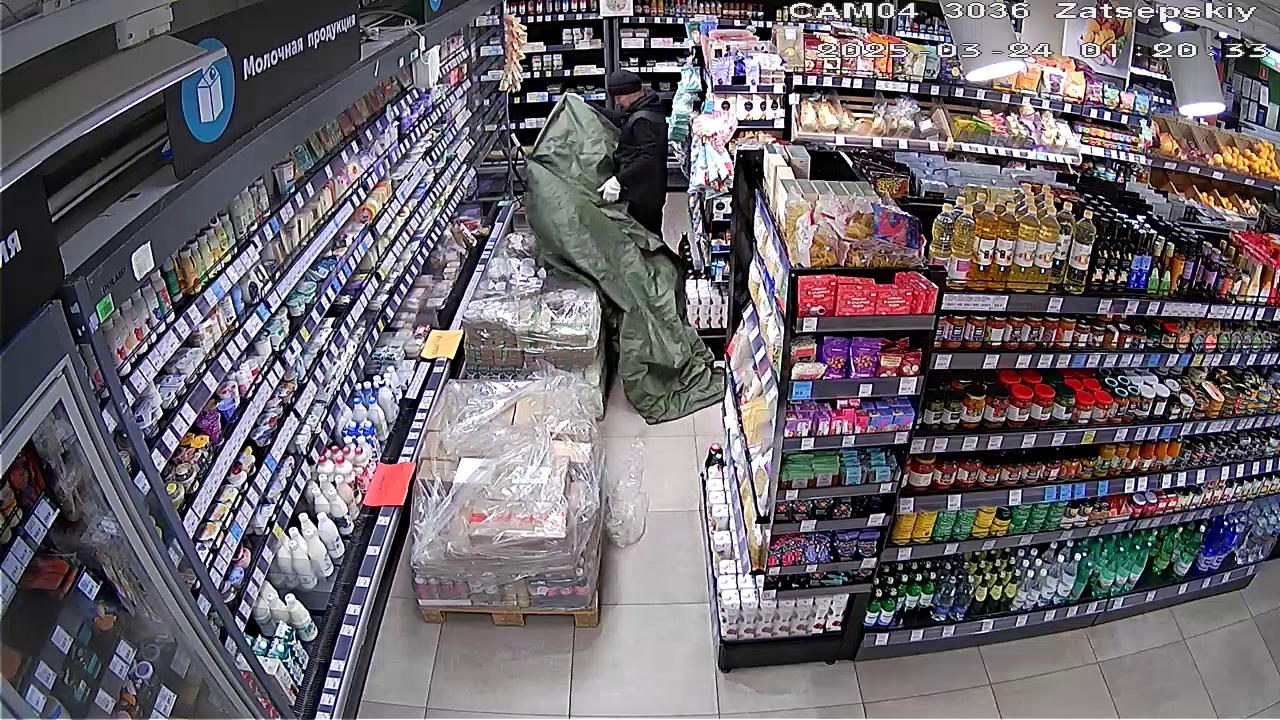Human: (588, 69, 679, 216)
pallet: (405, 373, 602, 625), (460, 232, 593, 386)
